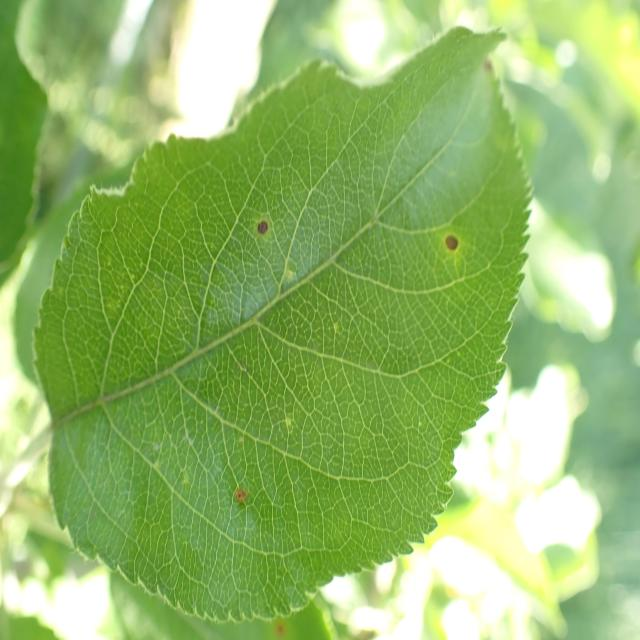Black Rot: (211, 474, 271, 516), (243, 205, 287, 252), (434, 218, 466, 267)
